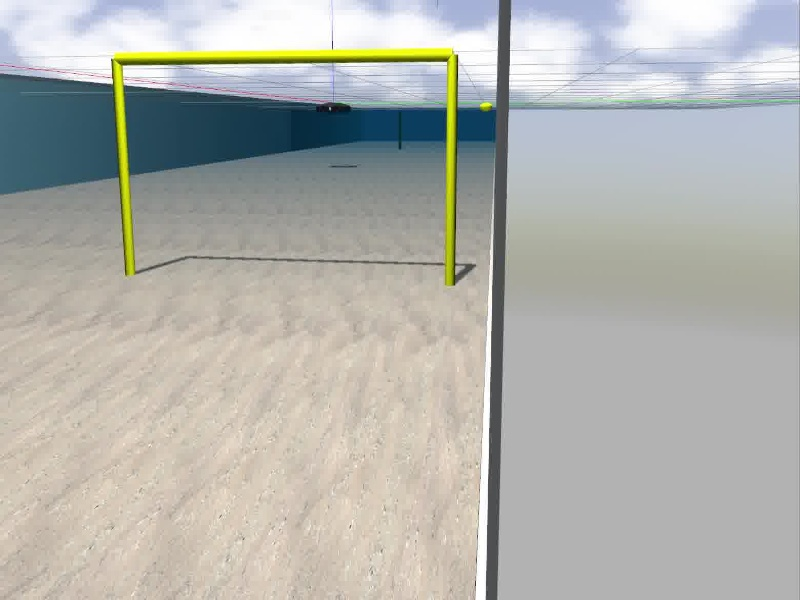gate: (112, 53, 458, 284)
